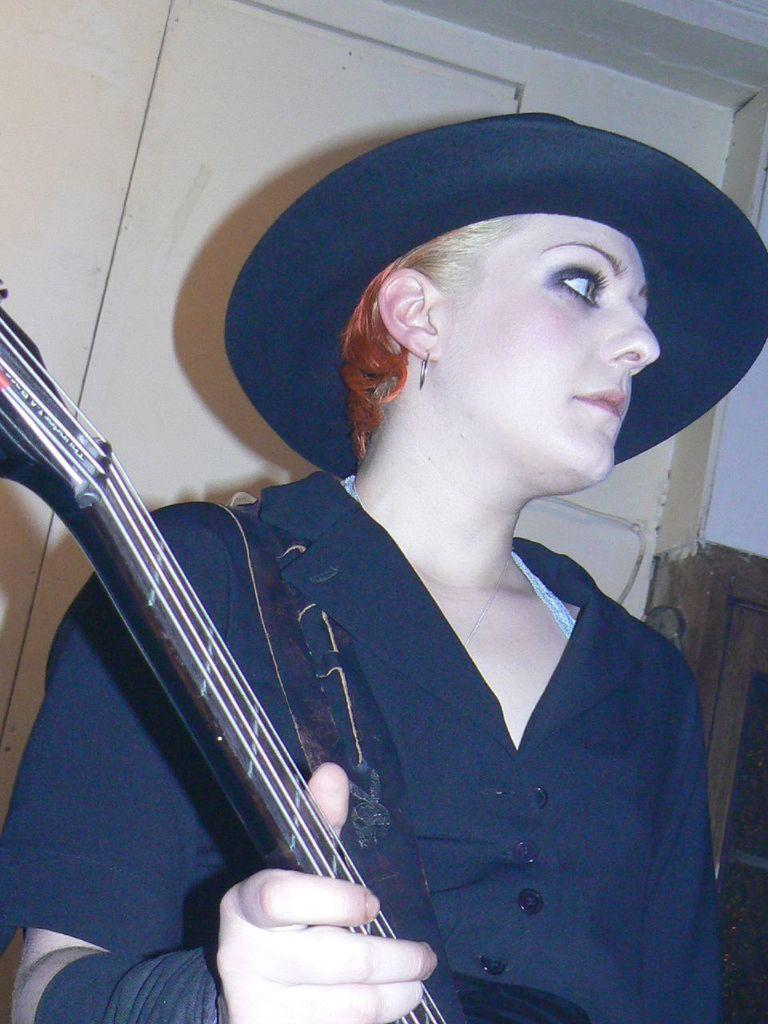Hat: (218, 110, 767, 484)
